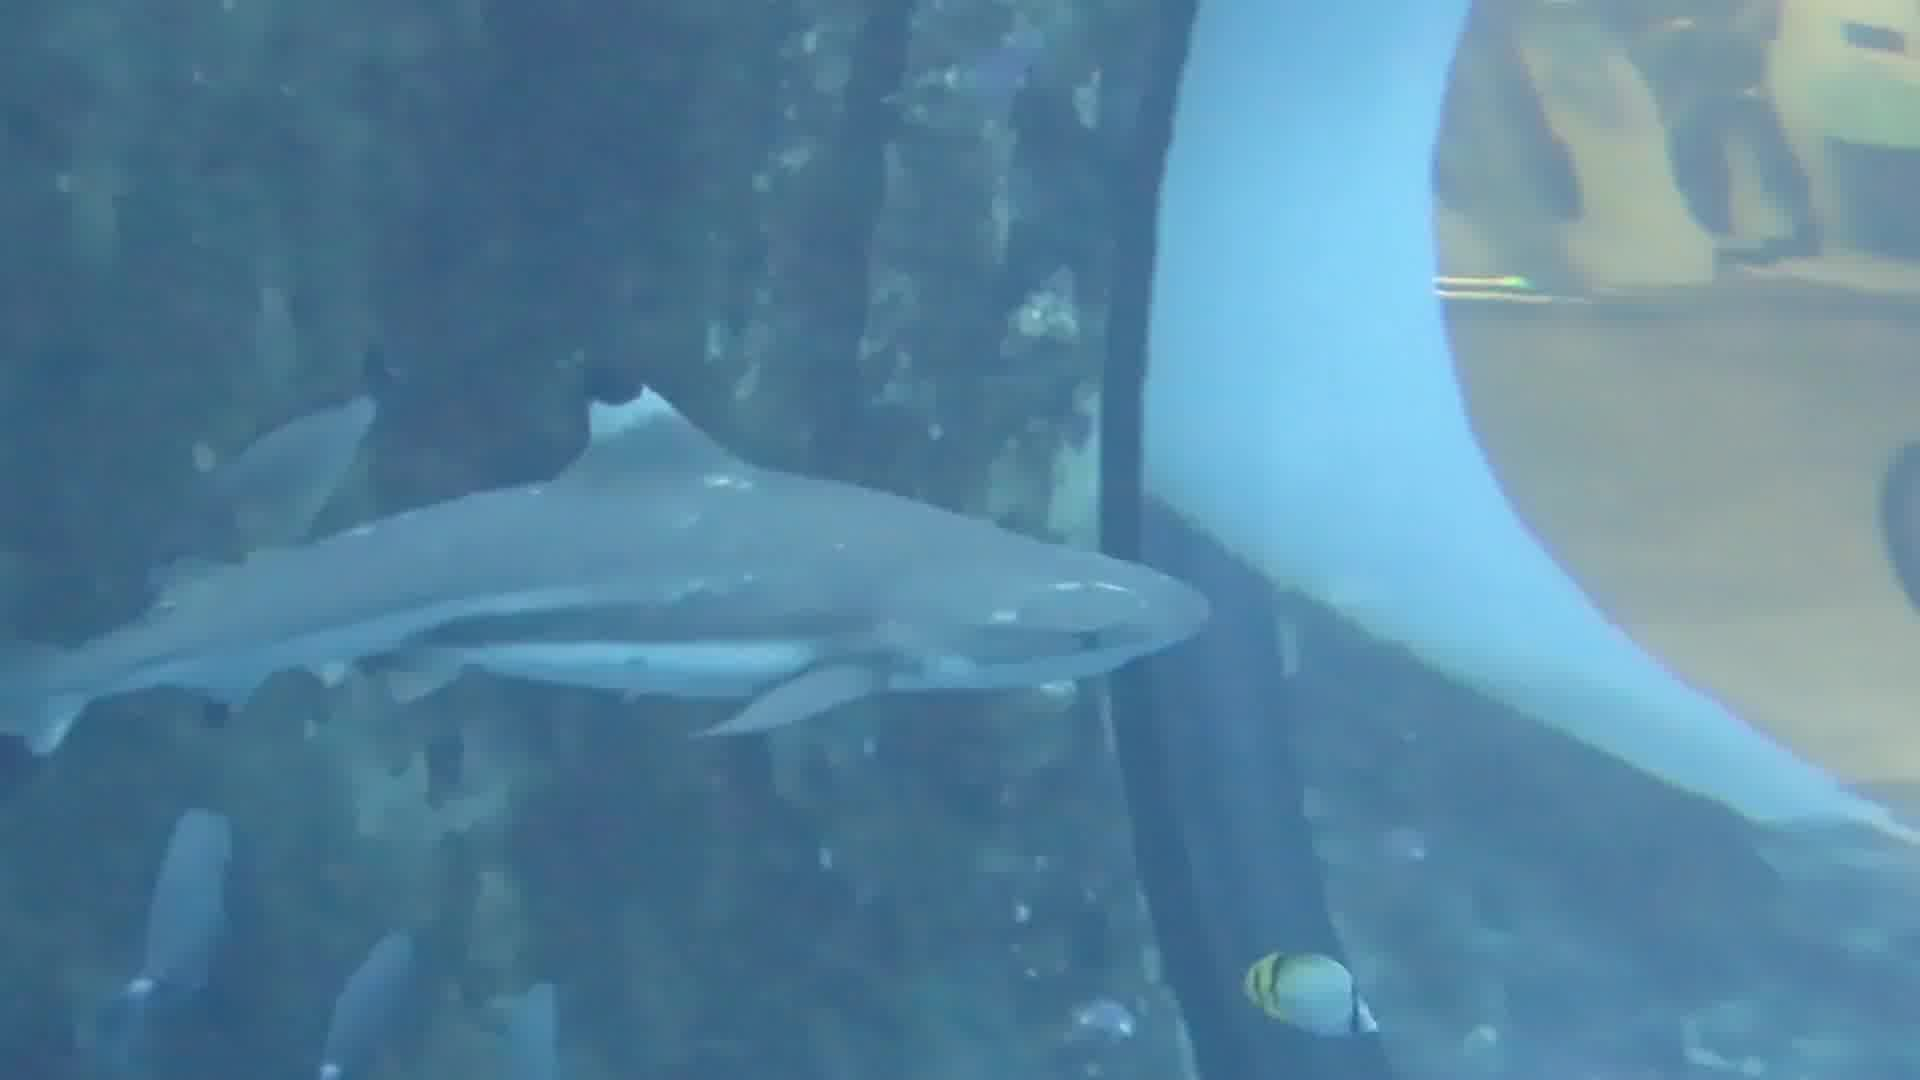Carcharhinus melanopterus: (1, 349, 1233, 796)
